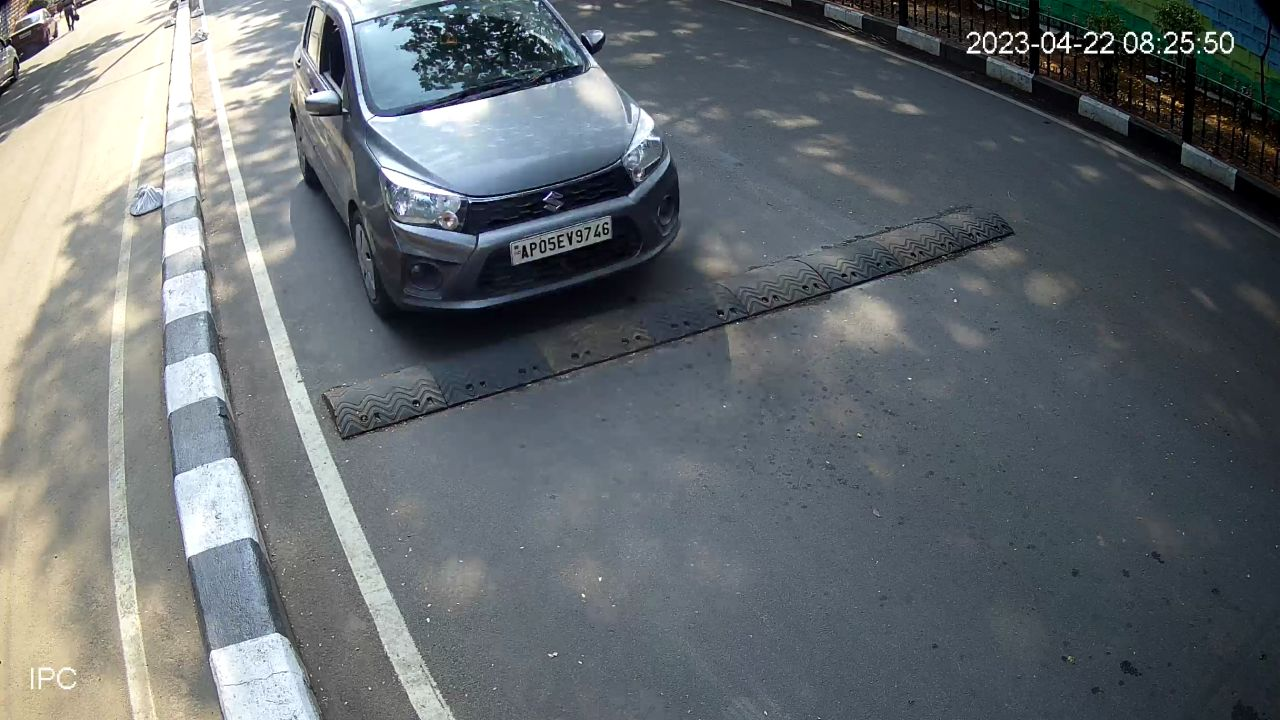license_plate: (507, 211, 614, 269)
